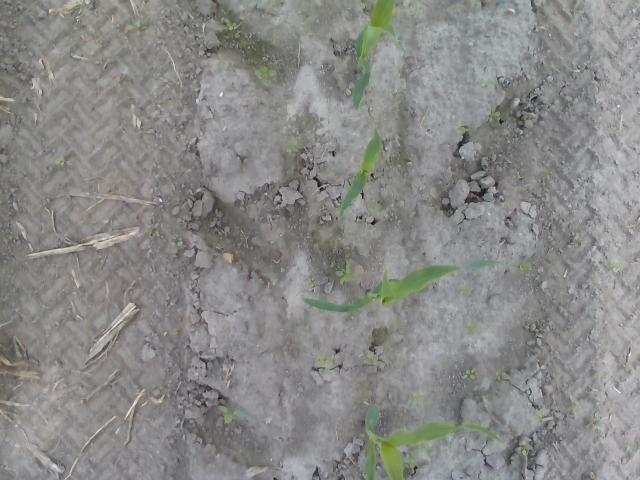Maize: (302, 259, 504, 312), (362, 405, 504, 480), (352, 1, 404, 110), (340, 101, 383, 220)
Weeds: (334, 261, 356, 286), (219, 406, 245, 426), (252, 66, 278, 84), (314, 354, 335, 376), (364, 198, 382, 222), (364, 348, 384, 368), (221, 19, 240, 35), (516, 442, 536, 456), (52, 154, 72, 168), (171, 240, 186, 258), (591, 417, 607, 433), (408, 391, 426, 405), (517, 261, 534, 275), (405, 452, 418, 470), (285, 139, 300, 154), (148, 222, 162, 238), (464, 320, 480, 334), (458, 282, 472, 298), (482, 78, 496, 92), (532, 407, 546, 421), (487, 108, 500, 122), (422, 442, 435, 456), (612, 260, 626, 273), (456, 120, 468, 134), (128, 20, 142, 32), (304, 278, 316, 291), (462, 368, 476, 379), (44, 440, 55, 454), (260, 325, 272, 337), (411, 3, 423, 15), (572, 403, 582, 416), (498, 368, 507, 380), (172, 328, 180, 334)
